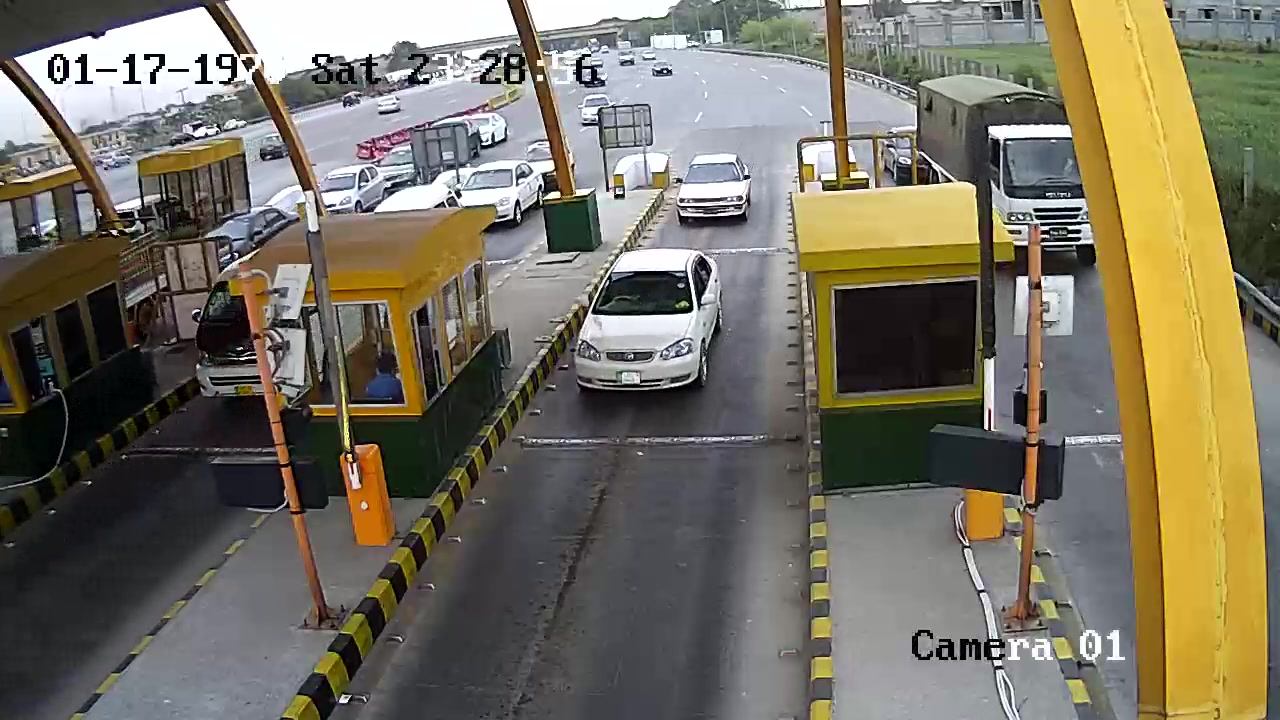F1: (568, 246, 724, 416), (676, 147, 753, 228)
